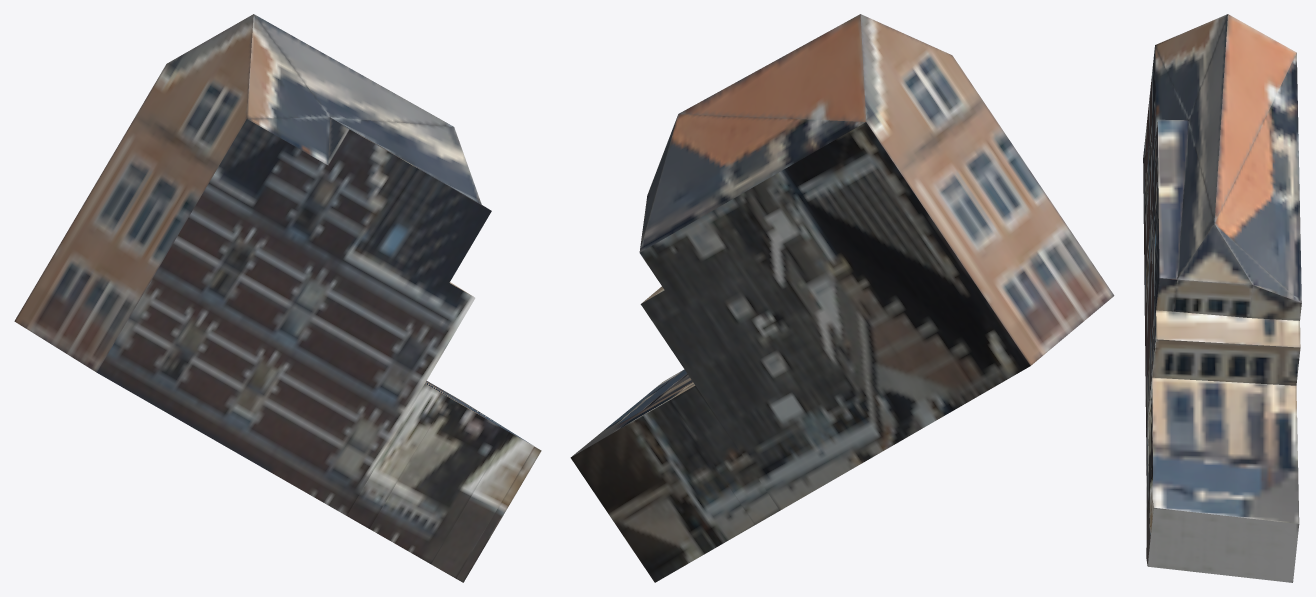
The picture shows the model from 3 angles, left to right: view 1: azimuth 30°, elevation 25°; view 2: azimuth 150°, elevation 25°; view 3: azimuth 270°, elevation 25°; orthographic projection. The views are drawn at different scales.
Parts seen in each view (by area): view 1: BAG_0599100000671567 (×5); view 2: BAG_0599100000671567 (×3); view 3: BAG_0599100000671567 (×4).
Boxes of the visible parts, x1,y1,x2,y2 form: BAG_0599100000671567 (×5): (14, 14, 541, 582); BAG_0599100000671567 (×3): (570, 14, 1114, 582); BAG_0599100000671567 (×4): (1143, 14, 1301, 582).
Bounding box in the file's own units: 18.42 × 22.62 × 6.52.
Materials: 5 (5 with a texture image).
